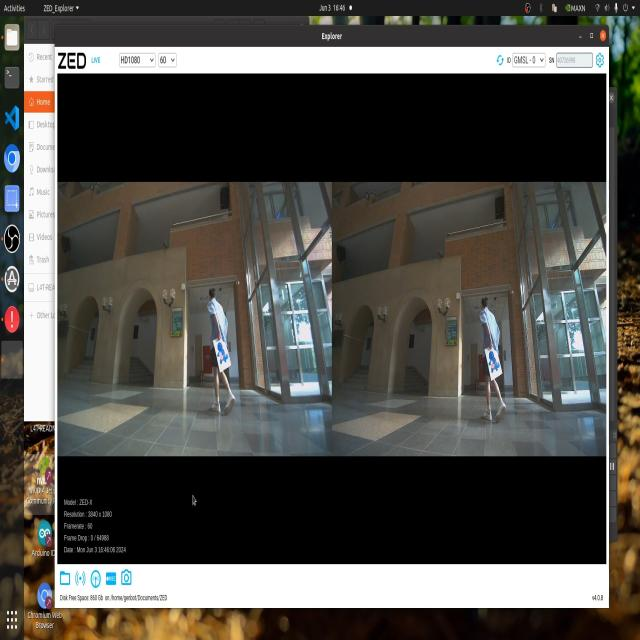blue: (487, 353, 503, 382), (218, 342, 232, 362)
